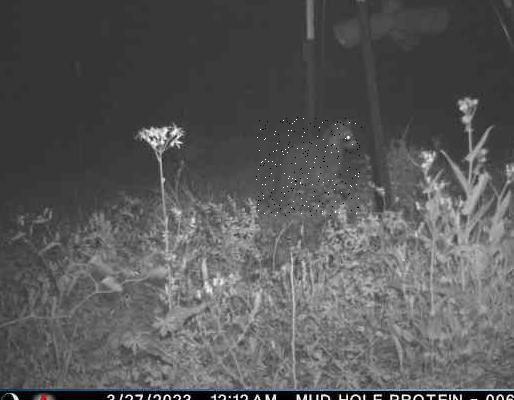Raccoon: (257, 117, 363, 216)
